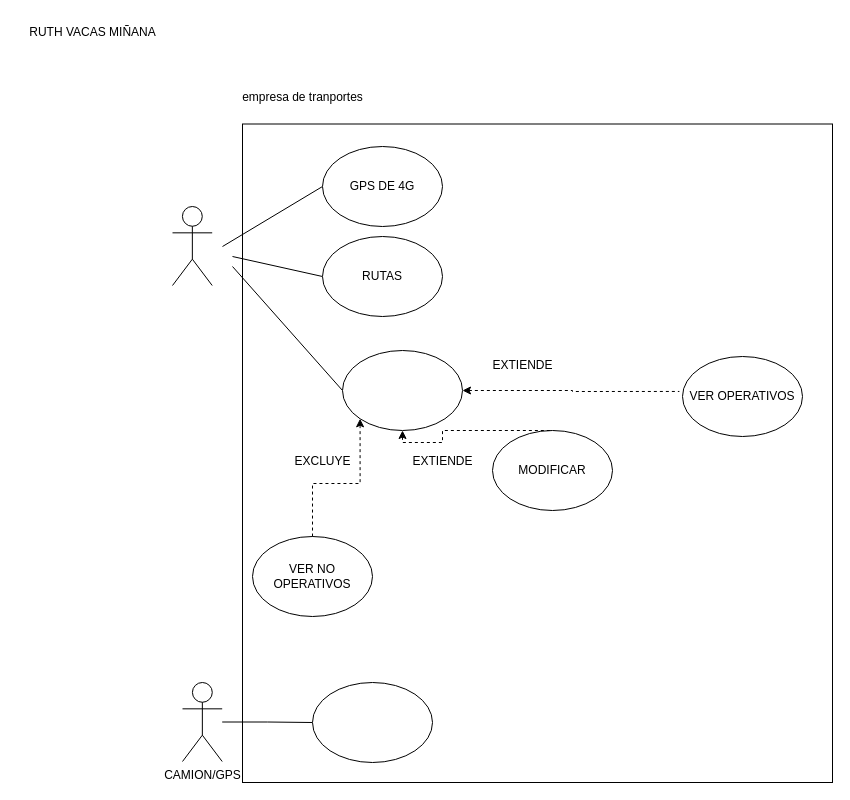
The diagram is 850 pixels wide and 800 high, and some of its shapes have lost their labels. Here are the shapes that lost their labels. From the top down, the box of each, then its label:
(172, 206, 212, 286): ADMINISTRADOR
(342, 350, 462, 430): MAPAS
(312, 682, 432, 762): ENVIAR UBICACION
